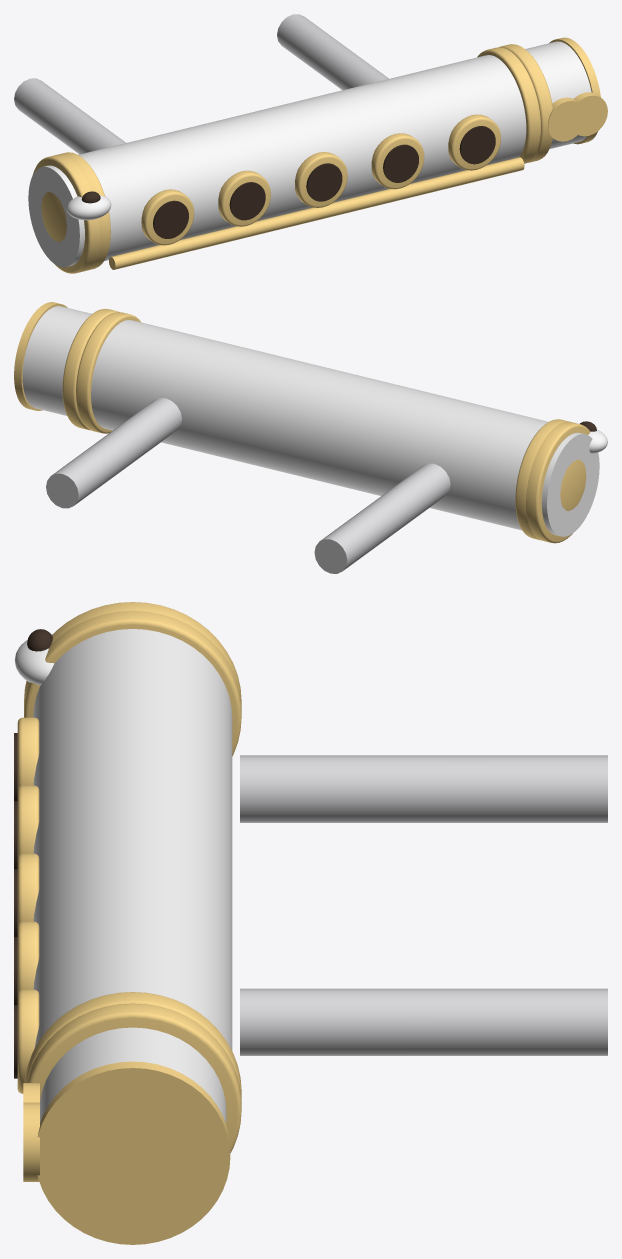
The picture shows the model from 3 angles, top to bottom: view 1: azimuth 30°, elevation 25°; view 2: azimuth 150°, elevation 25°; view 3: azimuth 270°, elevation 25°; orthographic projection. The views are drawn at different scales.
Visible parts, largest first — view 1: flute_v7_default; view 2: flute_v7_default; view 3: flute_v7_default.
Part boxes in pixels (<box>): flute_v7_default: <box>14,14,607,273</box>; flute_v7_default: <box>14,302,607,573</box>; flute_v7_default: <box>14,602,607,1244</box>.
Bounding box in the file's own units: 0.729 × 0.142 × 0.3875.
